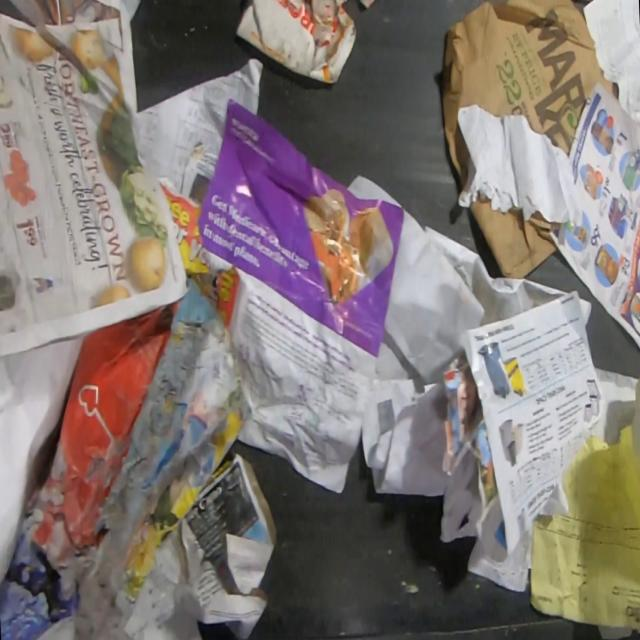cardboard: (440, 0, 618, 183), (235, 0, 356, 82), (468, 193, 560, 278)
